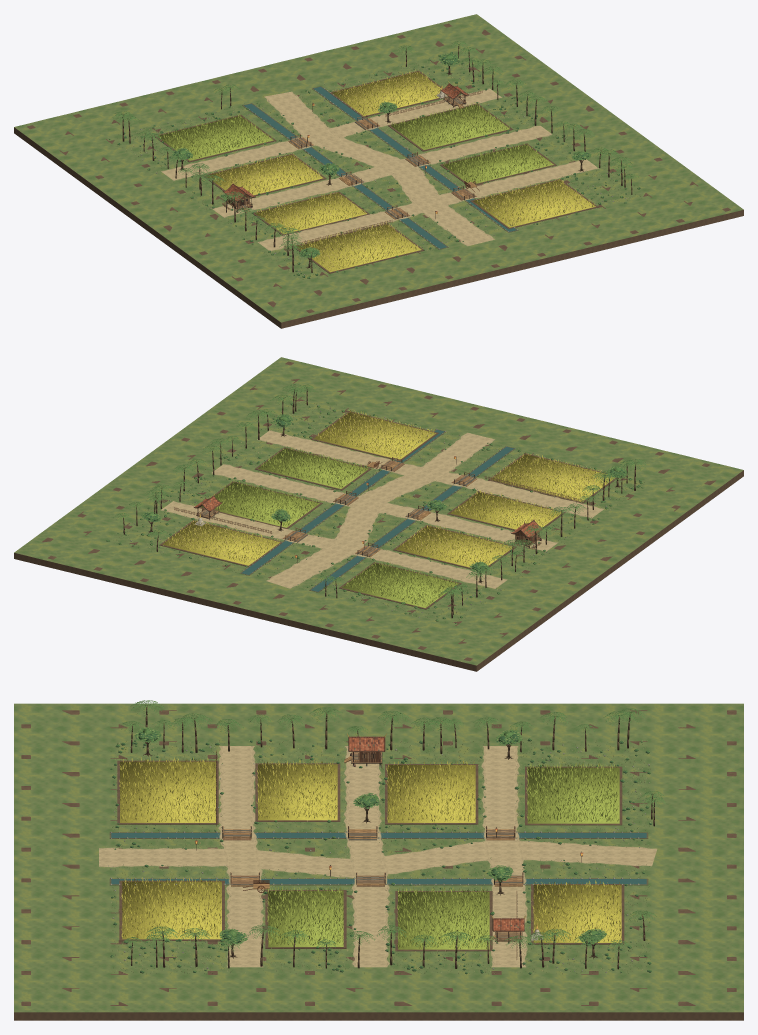
File: rice-fields.glb
3 renders of one model, top to bottom at view 1: azimuth 30°, elevation 25°; view 2: azimuth 150°, elevation 25°; view 3: azimuth 270°, elevation 25°, orthographic. The views are drawn at different scales.
Parts seen in each view (by area): view 1: Ground - varied meadow | grass, Dense low rice canopy | rice, Tracks - worn earth | path, Dense low rice canopy | rice2, Soil foundation | earth, Dense rice blades | rice, Dense rice blades | rice2, Feathered road shoulders | path_edge, Earthen rice bund | earth, Palm feather leaflets | leaf2, Water surface | water, Rice seed heads | grain (+9 smaller); view 2: Ground - varied meadow | grass, Dense low rice canopy | rice, Tracks - worn earth | path, Soil foundation | earth, Dense low rice canopy | rice2, Dense rice blades | rice, Dense rice blades | rice2, Feathered road shoulders | path_edge, Earthen rice bund | earth, Palm feather leaflets | leaf2, Water surface | water, Rice seed heads | grain (+9 smaller); view 3: Ground - varied meadow | grass, Dense low rice canopy | rice, Tracks - worn earth | path, Dense low rice canopy | rice2, Dense rice blades | rice, Soil foundation | earth, Dense rice blades | rice2, Feathered road shoulders | path_edge, Earthen rice bund | earth, Palm feather leaflets | leaf2, Water surface | water, Curved palm trunks | trunk (+17 smaller).
Part boxes in pixels (<box>): Ground - varied meadow | grass: <box>14,14,743,322</box>; Dense low rice canopy | rice: <box>206,71,595,272</box>; Tracks - worn earth | path: <box>162,89,597,250</box>; Dense low rice canopy | rice2: <box>157,104,553,183</box>; Soil foundation | earth: <box>14,23,743,328</box>; Dense rice blades | rice: <box>210,69,594,270</box>; Dense rice blades | rice2: <box>158,102,551,182</box>; Feathered road shoulders | path_edge: <box>161,88,598,251</box>; Earthen rice bund | earth: <box>154,70,598,273</box>; Palm feather leaflets | leaf2: <box>113,41,637,258</box>; Water surface | water: <box>244,86,516,248</box>; Rice seed heads | grain: <box>211,69,595,268</box>; Ground - varied meadow | grass: <box>14,357,743,665</box>; Dense low rice canopy | rice: <box>162,412,614,567</box>; Tracks - worn earth | path: <box>162,431,602,587</box>; Soil foundation | earth: <box>14,361,743,671</box>; Dense low rice canopy | rice2: <box>201,448,458,608</box>; Dense rice blades | rice: <box>164,410,610,565</box>; Dense rice blades | rice2: <box>207,446,458,606</box>; Feathered road shoulders | path_edge: <box>160,430,603,588</box>; Earthen rice bund | earth: <box>159,411,616,609</box>; Palm feather leaflets | leaf2: <box>114,384,646,599</box>; Water surface | water: <box>241,429,513,591</box>; Rice seed heads | grain: <box>167,409,607,563</box>; Ground - varied meadow | grass: <box>14,703,743,1012</box>; Dense low rice canopy | rice: <box>120,761,621,942</box>; Tracks - worn earth | path: <box>99,746,656,967</box>; Dense low rice canopy | rice2: <box>268,767,619,949</box>; Dense rice blades | rice: <box>119,757,621,942</box>; Soil foundation | earth: <box>14,710,743,1020</box>; Dense rice blades | rice2: <box>266,763,618,948</box>; Feathered road shoulders | path_edge: <box>99,746,657,967</box>; Earthen rice bund | earth: <box>117,760,624,951</box>; Palm feather leaflets | leaf2: <box>120,700,665,951</box>; Water surface | water: <box>111,833,646,884</box>; Curved palm trunks | trunk: <box>130,707,654,969</box>.
Bounding box in the file's own units: 180 × 13.23 × 180.
Materials: 39 (39 with a texture image).
